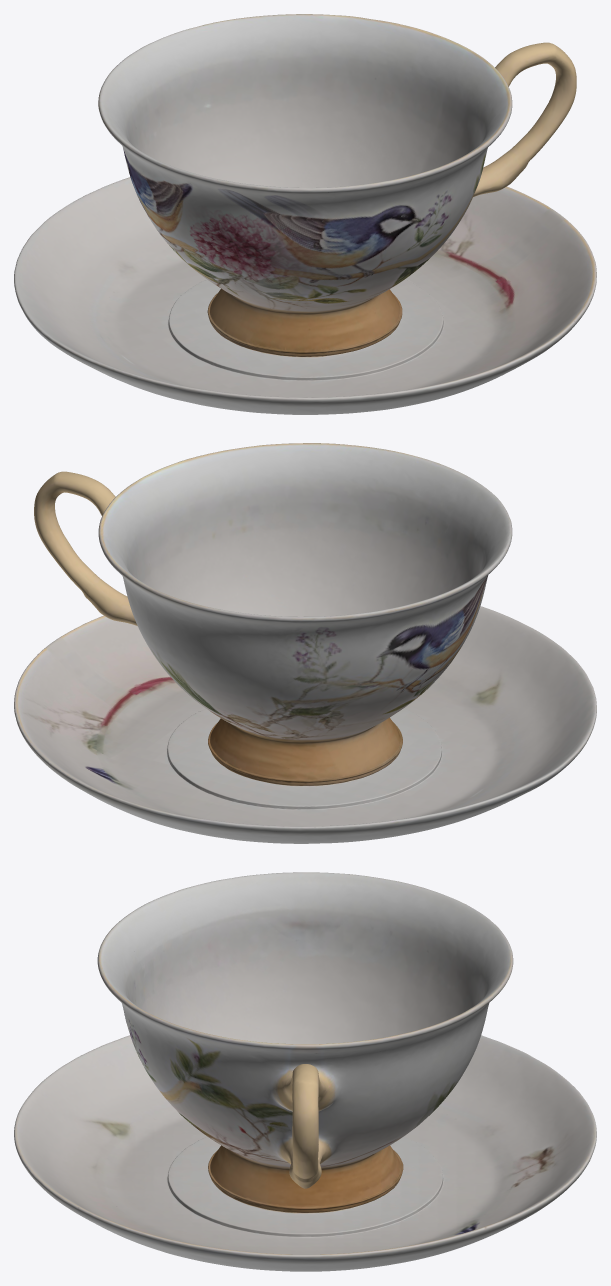
The model's file is teacup-3.glb.
3 views of the same model, one above another, from view 1: azimuth 30°, elevation 25°; view 2: azimuth 150°, elevation 25°; view 3: azimuth 270°, elevation 25° (orthographic).
Parts seen in each view (by area): view 1: tripo_node_decc144a-d638-421b-ae5f-a8f9850a5ab8; view 2: tripo_node_decc144a-d638-421b-ae5f-a8f9850a5ab8; view 3: tripo_node_decc144a-d638-421b-ae5f-a8f9850a5ab8.
Part boxes in pixels (x1,y1,x2,y2): tripo_node_decc144a-d638-421b-ae5f-a8f9850a5ab8: (14,14,596,414); tripo_node_decc144a-d638-421b-ae5f-a8f9850a5ab8: (14,443,596,843); tripo_node_decc144a-d638-421b-ae5f-a8f9850a5ab8: (14,872,596,1271).
Size of the model in its own units: 1 by 0.4183 by 0.9652.
1 material, 1 textured.
